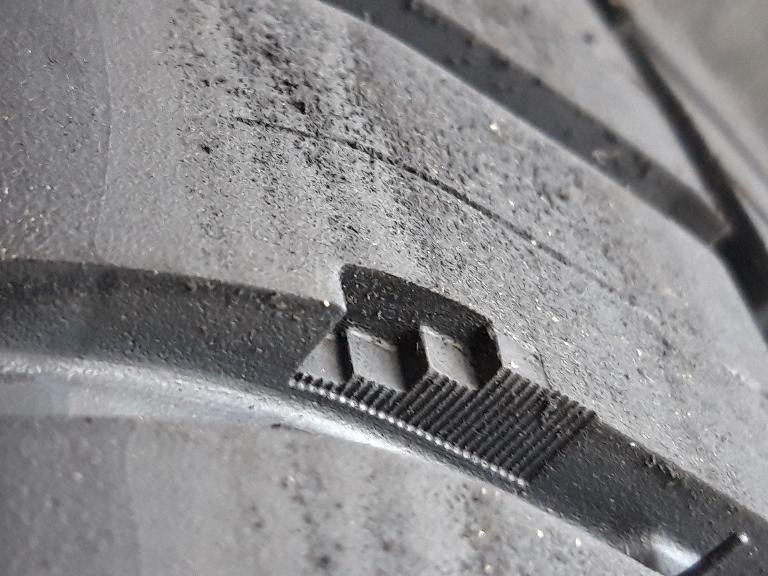temoin:75: (276, 254, 558, 483)
